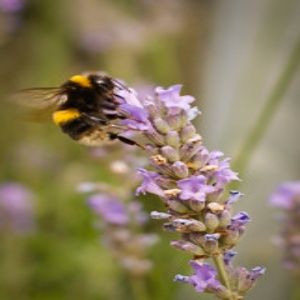bee: (30, 70, 127, 148)
